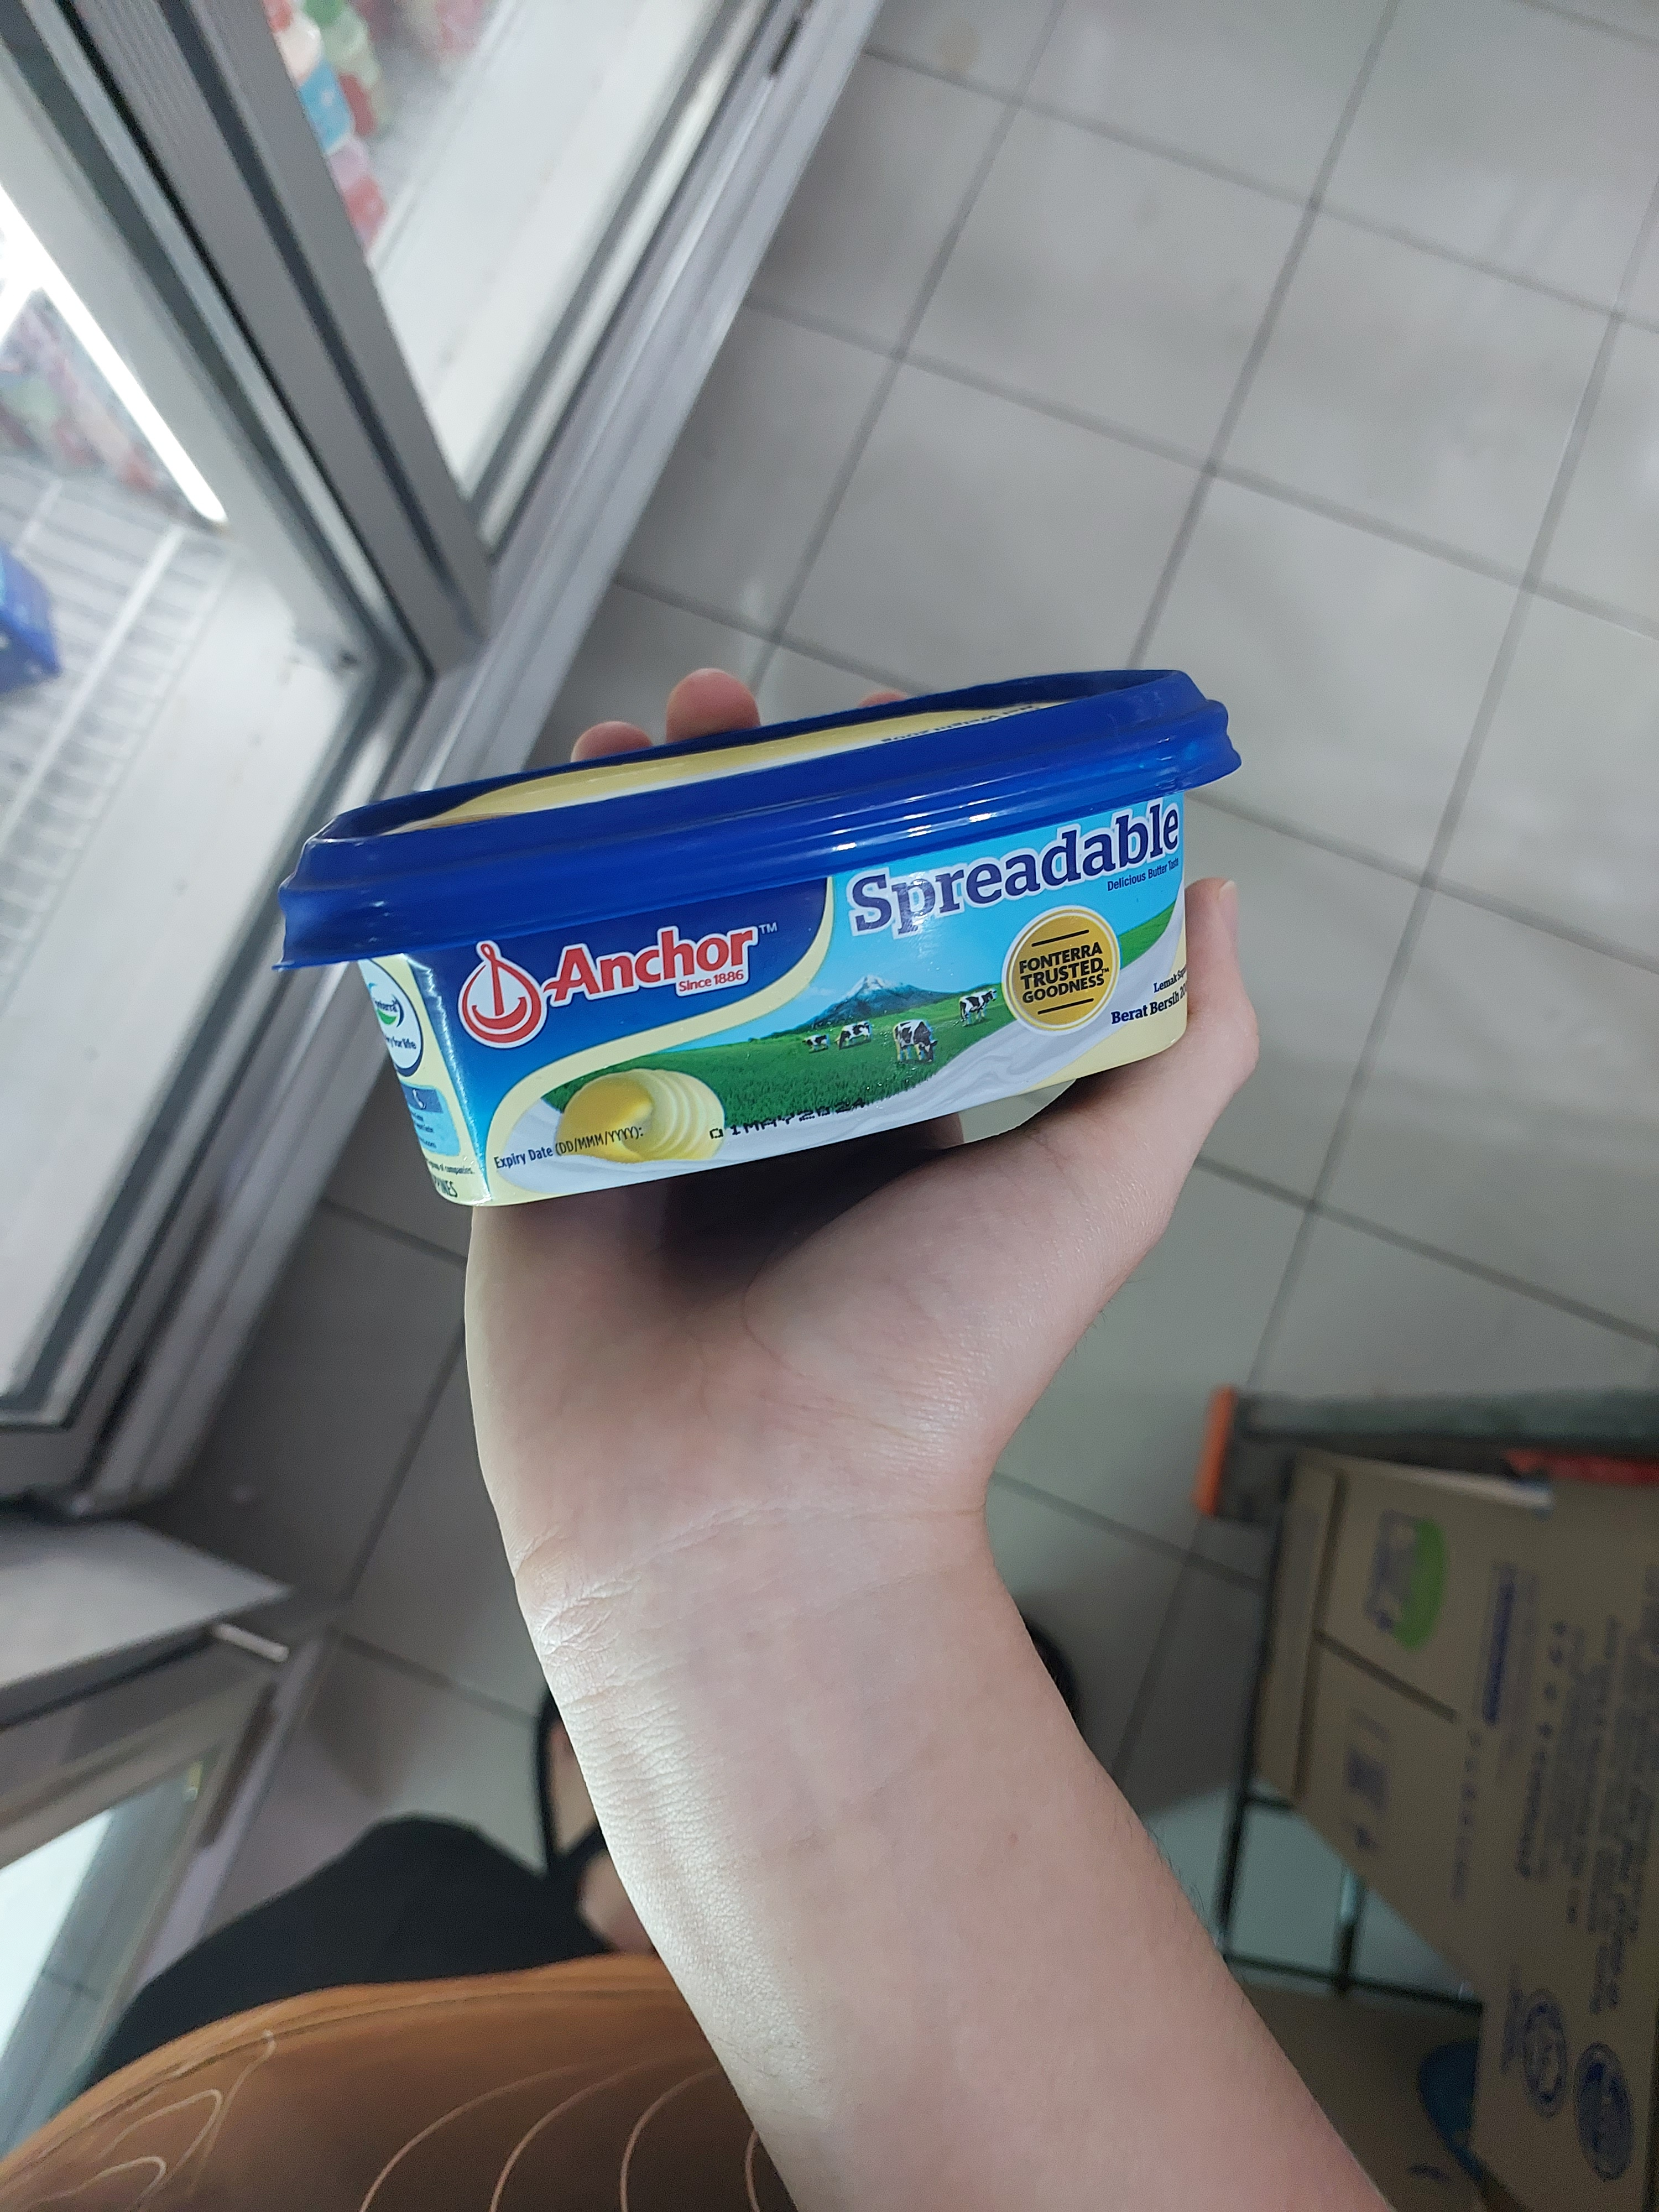butter: (275, 669, 1249, 1209)
